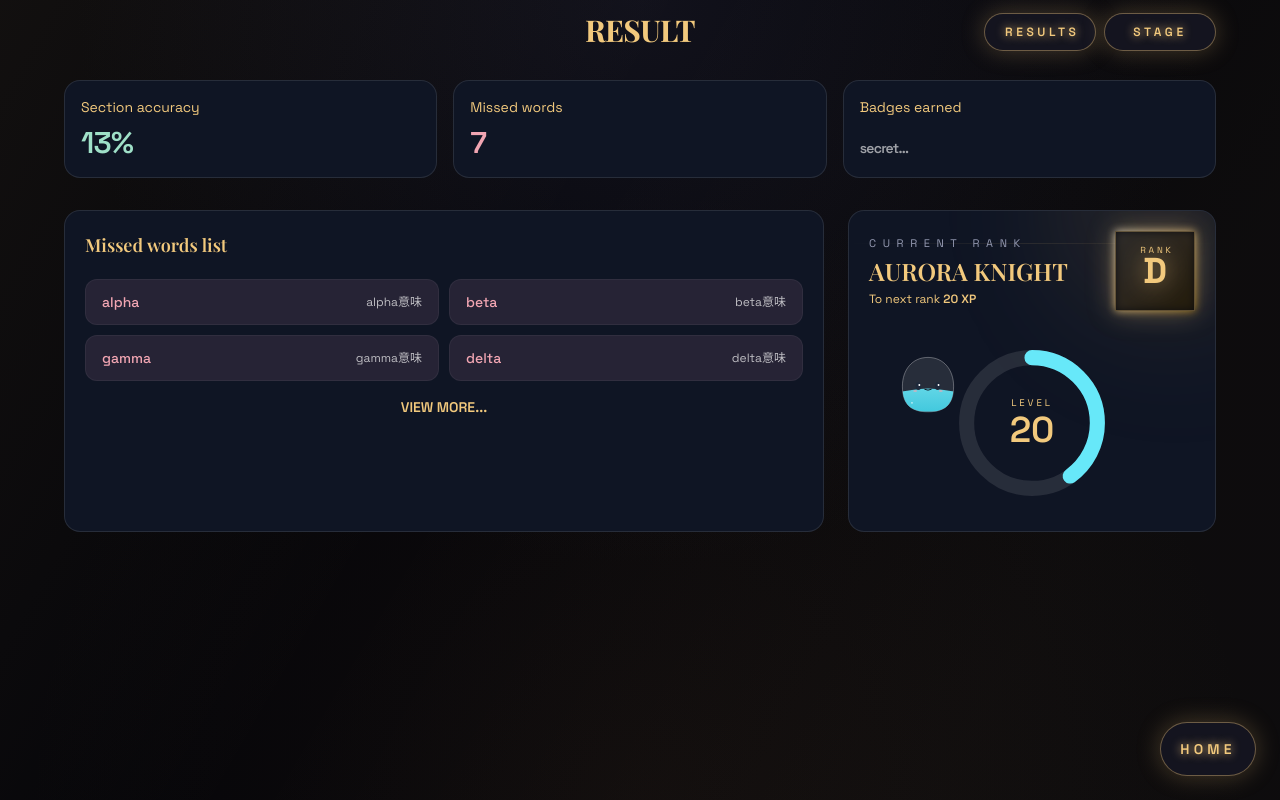
ミニリザルトページ › 間違いが多いときは詳細モーダルが開ける
The width and height of the screenshot is (1280, 800).
Click the button "View more..." at (444, 407), box left=85, top=397, right=803, bottom=417
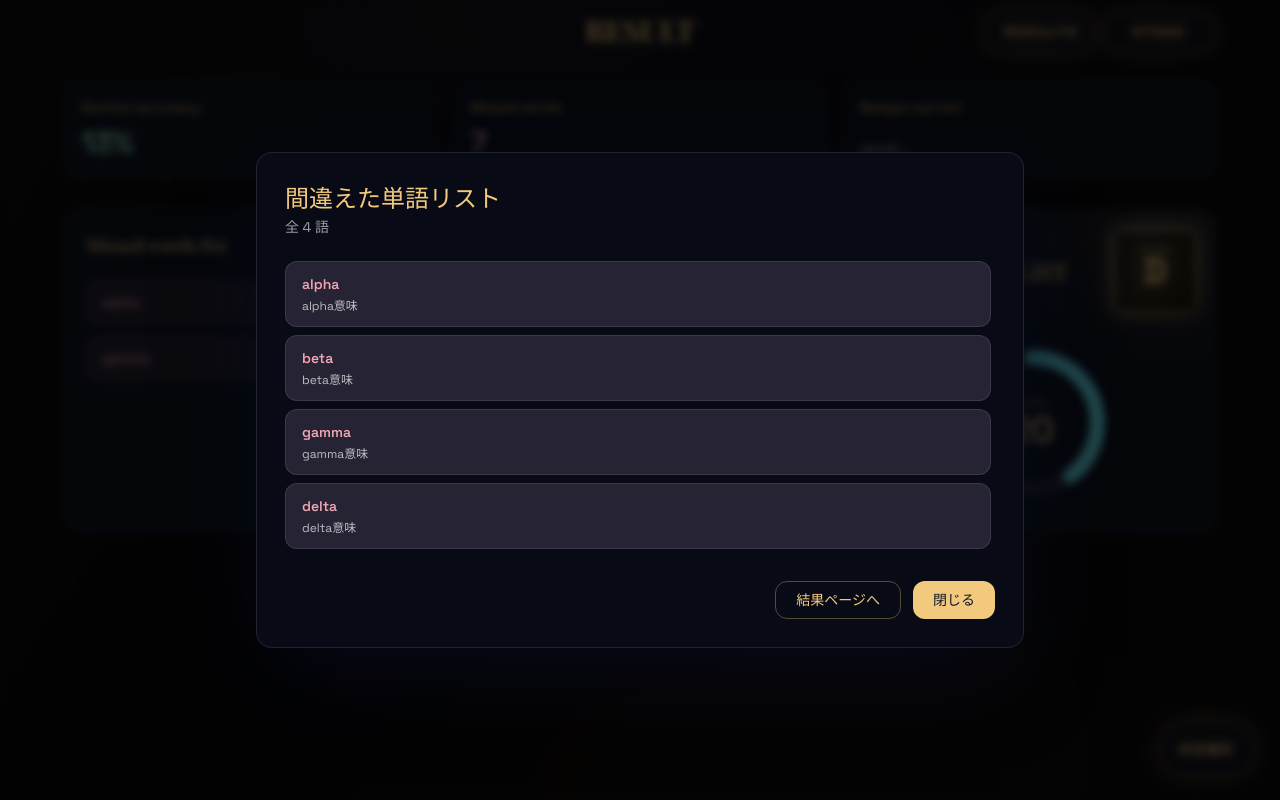
Check: the heading "間違えた単語リスト" is shown, box left=285, top=181, right=501, bottom=213
Click the button "閉じる" at (954, 600), box left=913, top=581, right=995, bottom=619
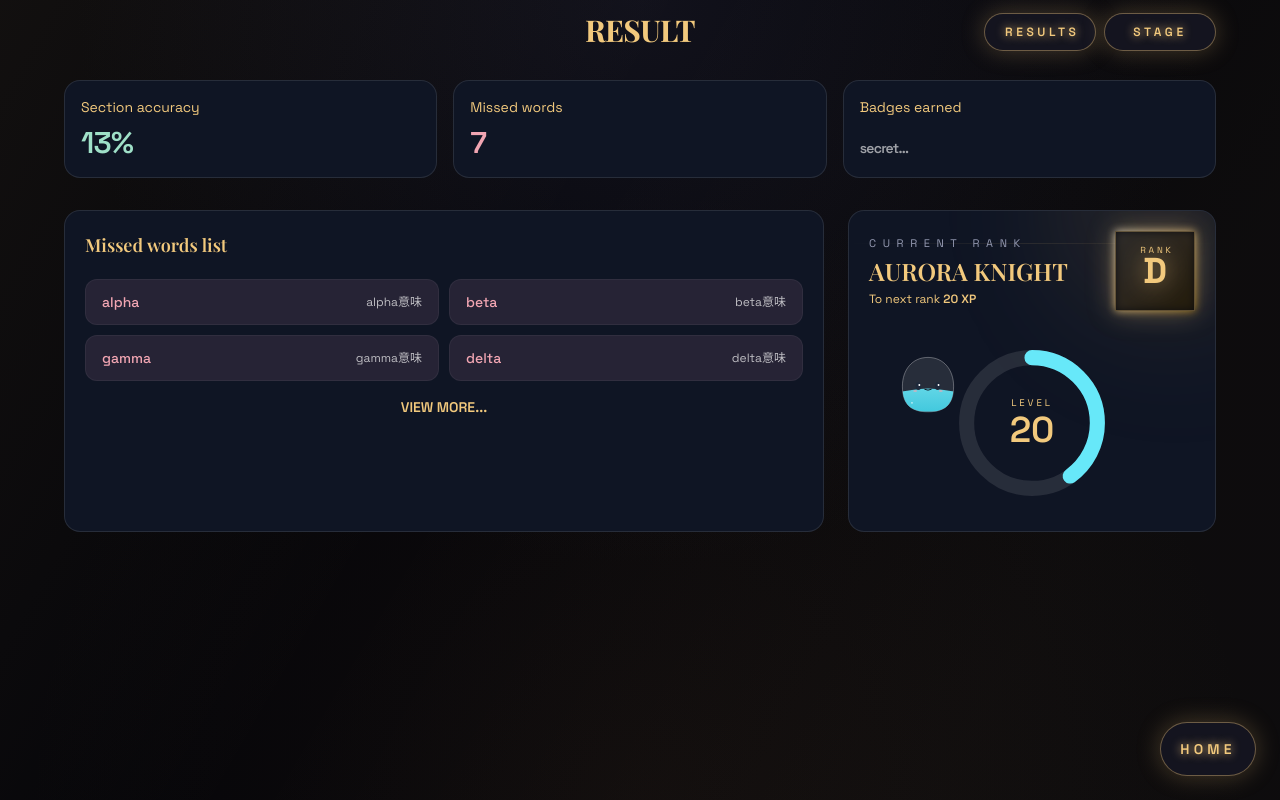
Check: the heading "間違えた単語リスト" is gone
